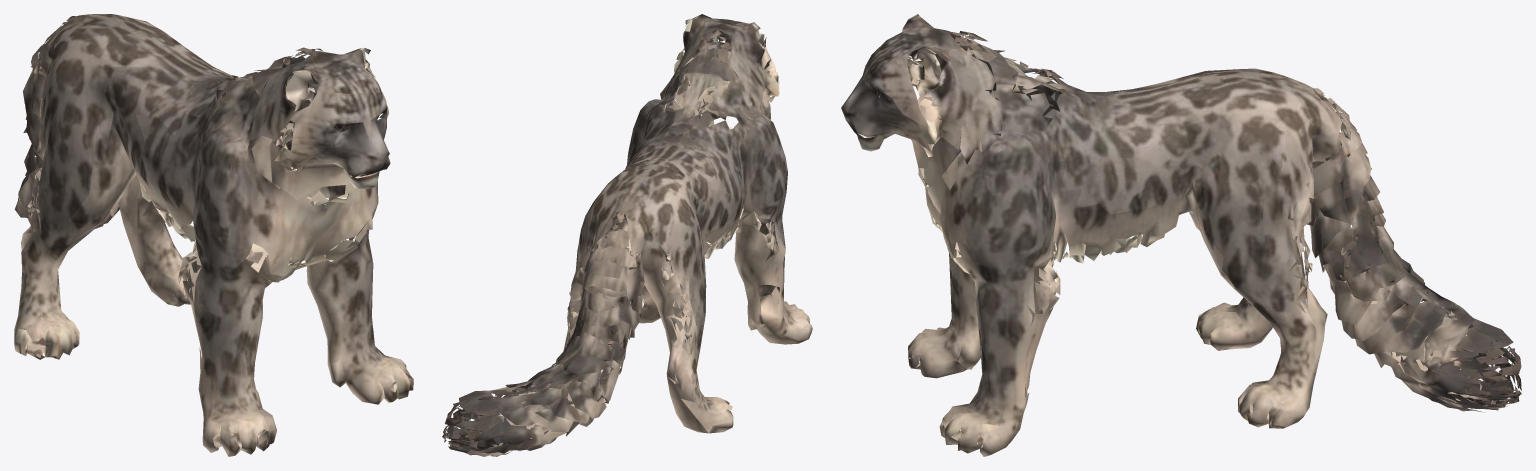
File: snow-leopard-rig.phone.glb
The picture shows the model from 3 angles, left to right: view 1: azimuth 30°, elevation 25°; view 2: azimuth 150°, elevation 25°; view 3: azimuth 270°, elevation 25°; orthographic projection. The views are drawn at different scales.
Parts seen in each view (by area): view 1: snow-leopard-rig.raw; view 2: snow-leopard-rig.raw; view 3: snow-leopard-rig.raw.
Part boxes in pixels (x1=…): snow-leopard-rig.raw: x1=14, y1=14, x2=413, y2=456; snow-leopard-rig.raw: x1=442, y1=14, x2=812, y2=456; snow-leopard-rig.raw: x1=841, y1=14, x2=1521, y2=456.
Bounding box in the file's own units: 0.5998 × 0.8001 × 1.31.
1 material, 1 textured.
